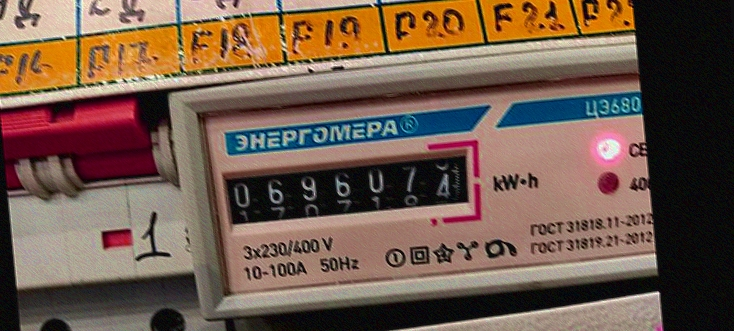0: (231, 178, 254, 208), (367, 163, 388, 193), (267, 175, 286, 203)
4: (434, 169, 453, 199)
6: (332, 166, 353, 197)
7: (400, 160, 420, 191)
9: (299, 171, 320, 200)
screen: (208, 133, 488, 243)
